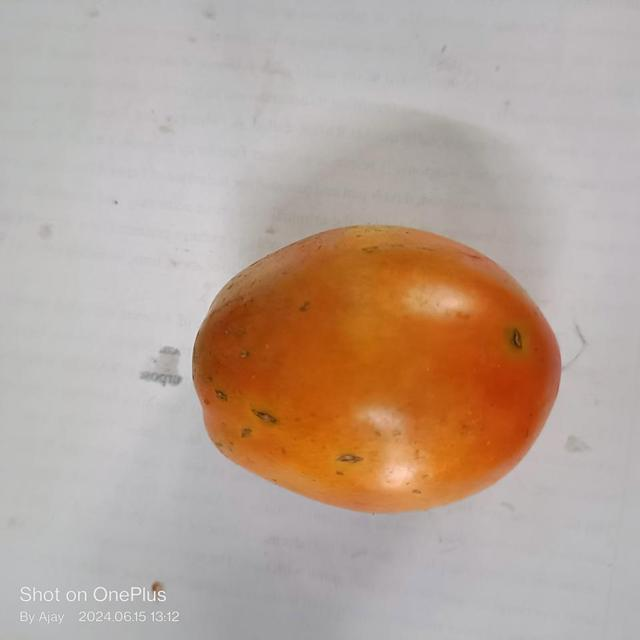Bacterial Spot Fruit: (10, 13, 346, 305)
